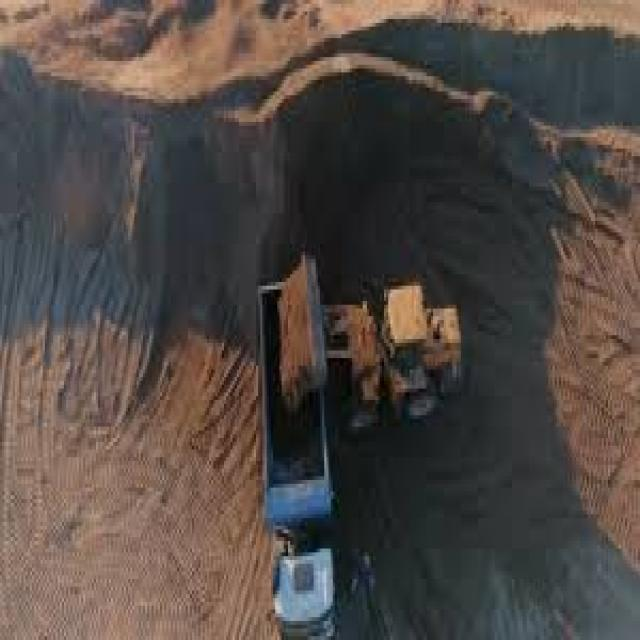truck: (259, 284, 338, 640)
